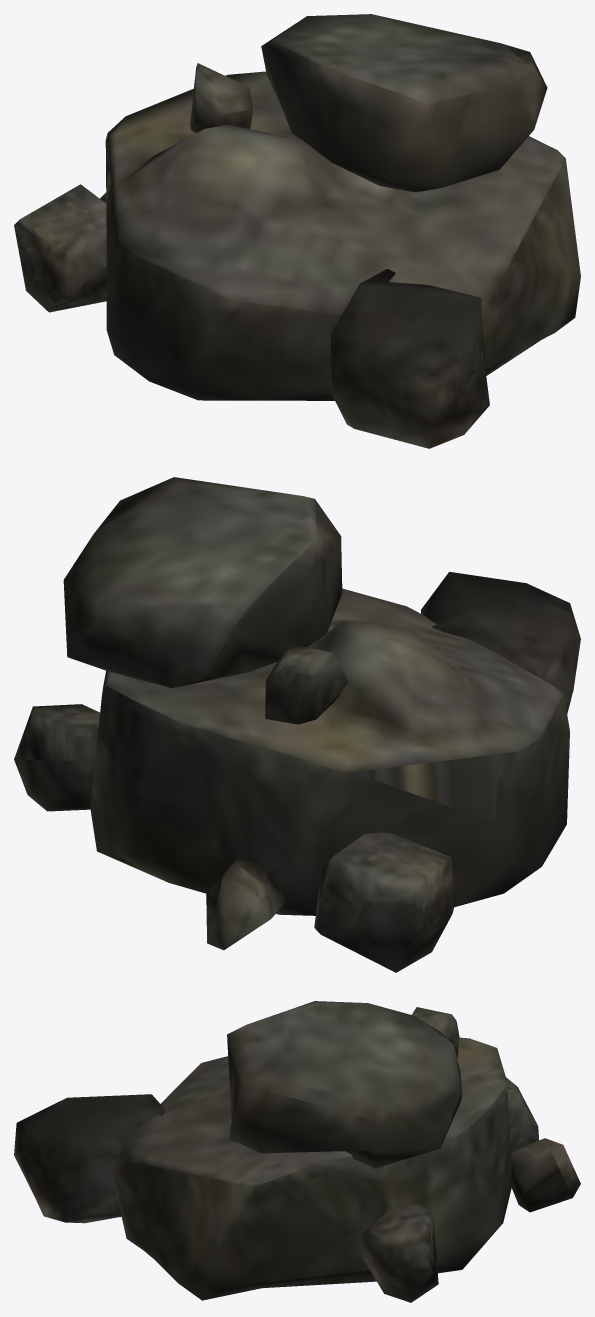
The picture shows the model from 3 angles, top to bottom: view 1: azimuth 30°, elevation 25°; view 2: azimuth 150°, elevation 25°; view 3: azimuth 270°, elevation 25°; orthographic projection. The views are drawn at different scales.
Visible parts, largest first — view 1: smallrockcluster; view 2: smallrockcluster; view 3: smallrockcluster.
Part boxes in pixels (box(x1,y1,x2,y2)): smallrockcluster: box(14, 14, 580, 448); smallrockcluster: box(14, 477, 580, 972); smallrockcluster: box(14, 1001, 580, 1302).
Bounding box in the file's own units: 3.68 × 2.22 × 4.93.
1 material, 1 textured.
